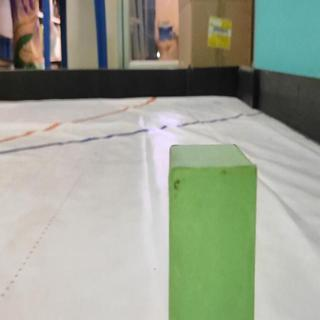greenbox: (167, 141, 257, 320)
